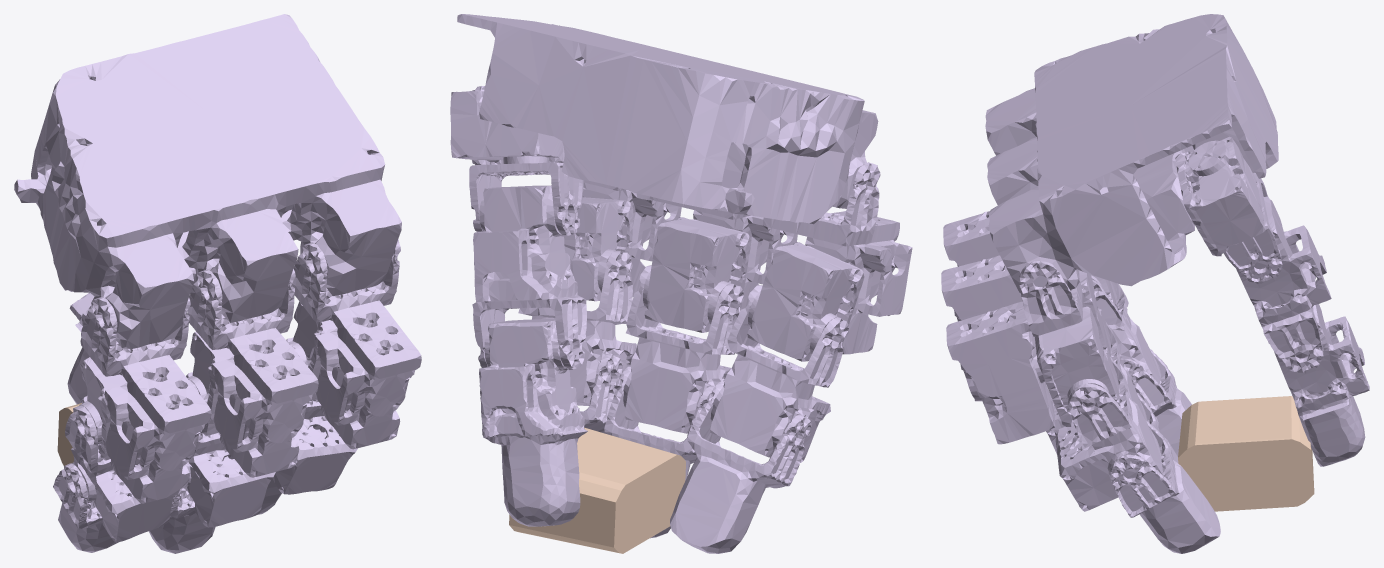
3 renders of one model, left to right at view 1: azimuth 30°, elevation 25°; view 2: azimuth 150°, elevation 25°; view 3: azimuth 270°, elevation 25°, orthographic. The views are drawn at different scales.
Parts seen in each view (by area): view 1: LEAP_hand, world; view 2: LEAP_hand, world; view 3: LEAP_hand, world.
Boxes of the visible parts, x1=… form: LEAP_hand: x1=14, y1=14, x2=421, y2=553; world: x1=57, y1=403, x2=81, y2=465; LEAP_hand: x1=450, y1=14, x2=912, y2=553; world: x1=509, y1=427, x2=685, y2=553; LEAP_hand: x1=941, y1=14, x2=1369, y2=553; world: x1=1178, y1=396, x2=1314, y2=511.
Size of the model in its own units: 0.1266 by 0.1955 by 0.1624.
